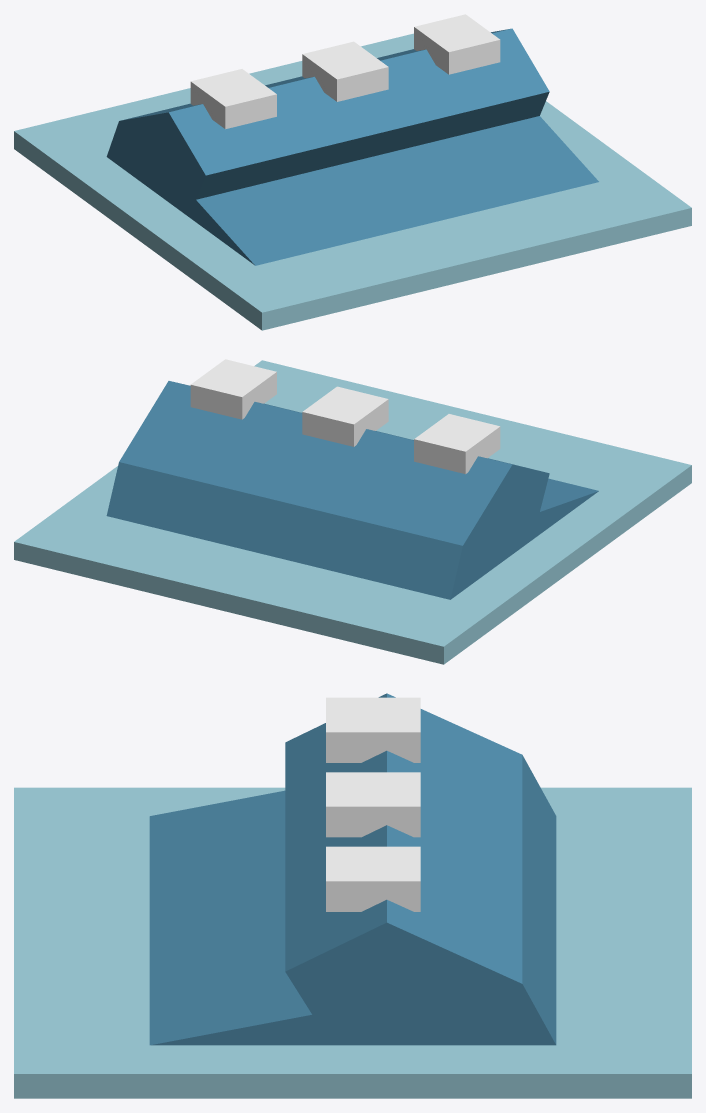
Rendered from wave-crest-tile.glb.
3 renders of one model, top to bottom at view 1: azimuth 30°, elevation 25°; view 2: azimuth 150°, elevation 25°; view 3: azimuth 270°, elevation 25°, orthographic. The views are drawn at different scales.
Visible parts, largest first — view 1: ocean-wave-crest-tile; view 2: ocean-wave-crest-tile; view 3: ocean-wave-crest-tile.
Boxes of the visible parts, x1,y1,x2,y2 form: ocean-wave-crest-tile: [14, 14, 691, 330]; ocean-wave-crest-tile: [14, 359, 691, 664]; ocean-wave-crest-tile: [14, 693, 691, 1098].
Bounding box in the file's own units: 1 × 0.27 × 1.
